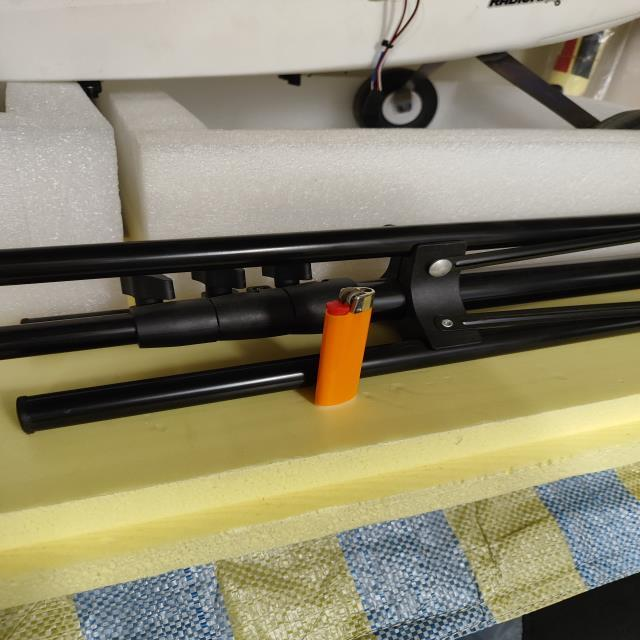lighter: (314, 288, 374, 406)
